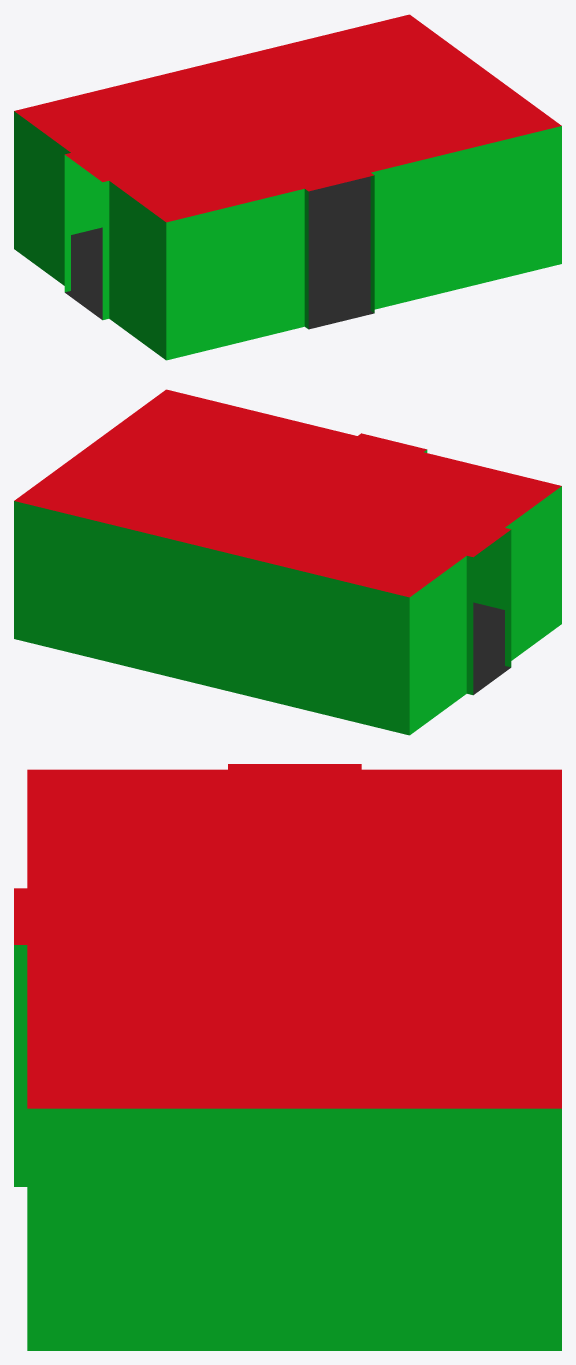
Rendered from Sanctuary_BedroomMesh.gltf.
3 renders of one model, top to bottom at view 1: azimuth 30°, elevation 25°; view 2: azimuth 150°, elevation 25°; view 3: azimuth 270°, elevation 25°, orthographic. The views are drawn at different scales.
Parts seen in each view (by area): view 1: Sanctuary_BedroomMesh2; view 2: Sanctuary_BedroomMesh2; view 3: Sanctuary_BedroomMesh2.
Boxes of the visible parts, left/top/right/bottom form: Sanctuary_BedroomMesh2: left=14, top=14, right=561, bottom=360; Sanctuary_BedroomMesh2: left=14, top=389, right=561, bottom=735; Sanctuary_BedroomMesh2: left=14, top=764, right=561, bottom=1350.
Bounding box in the file's own units: 30.5 × 10 × 20.5.
